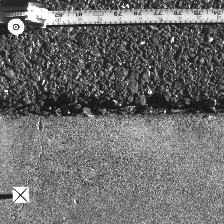circle: (7, 18, 24, 34)
crack: (1, 97, 223, 118)
square: (12, 187, 29, 202)
